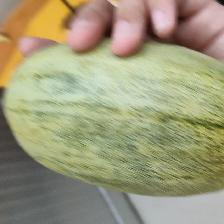gua: (16, 35, 224, 192)
